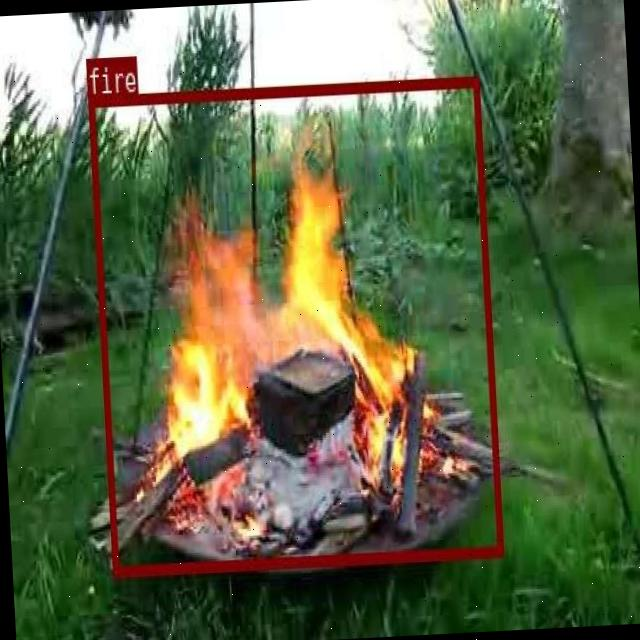fire: (86, 76, 502, 574)
